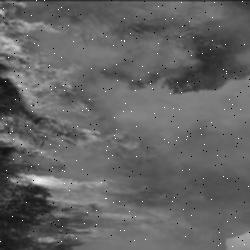fire: (0, 0, 168, 243)
